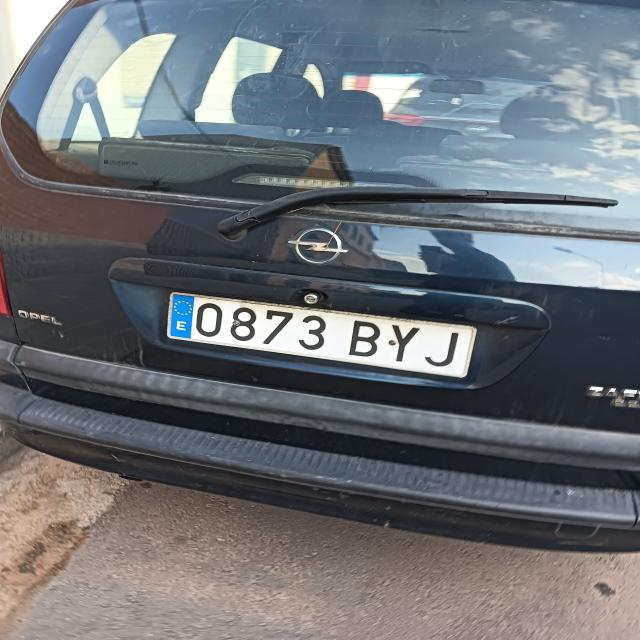license_plate-34Td: (166, 292, 476, 378)
